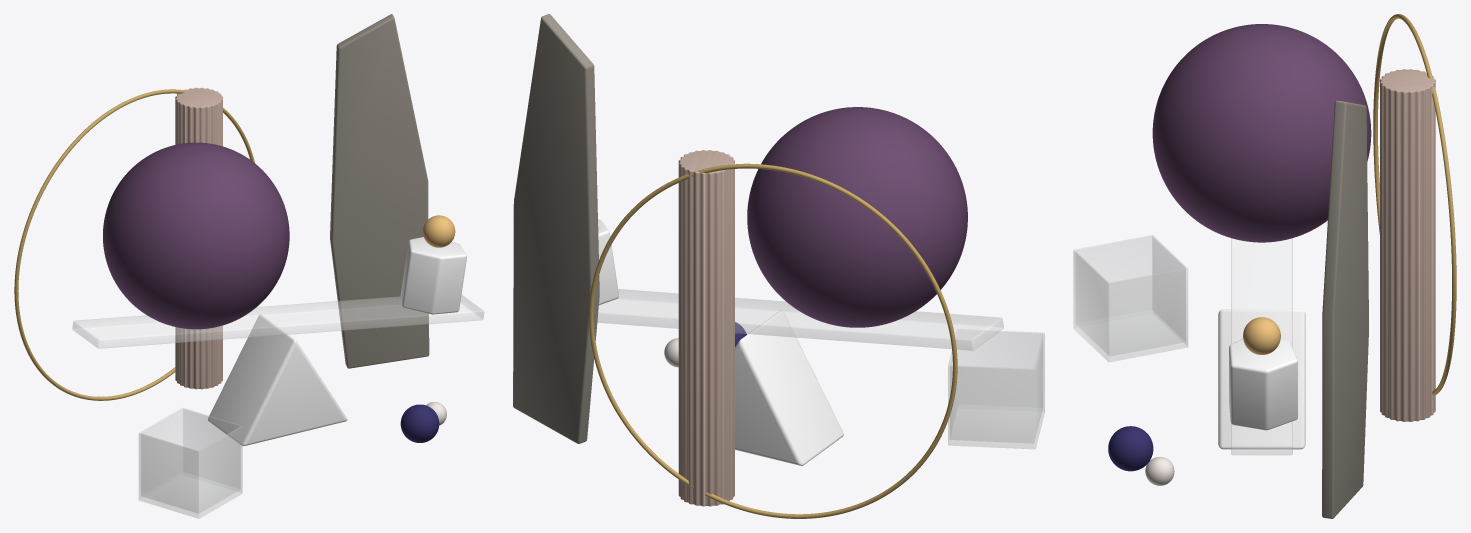
3 views of the same model, side by side, from view 1: azimuth 30°, elevation 25°; view 2: azimuth 150°, elevation 25°; view 3: azimuth 270°, elevation 25° (orthographic). The views are drawn at different scales.
Visible parts, largest first — view 1: ball, shard, wedge, plank, cube, column, jade, hoop, lav, gold; view 2: ball, shard, column, wedge, cube, plank, hoop, jade; view 3: ball, column, shard, cube, plank, wedge, jade, hoop, lav, gold, pearl.
Part boxes in pixels (bbox=[...]): ball: bbox=[103, 142, 289, 329]; shard: bbox=[330, 14, 429, 368]; wedge: bbox=[208, 314, 347, 446]; plank: bbox=[72, 295, 484, 348]; cube: bbox=[139, 408, 242, 518]; column: bbox=[175, 87, 222, 389]; jade: bbox=[400, 237, 466, 314]; hoop: bbox=[14, 89, 254, 400]; lav: bbox=[400, 404, 439, 442]; gold: bbox=[423, 215, 455, 247]; ball: bbox=[747, 107, 967, 327]; shard: bbox=[513, 14, 599, 443]; column: bbox=[678, 150, 734, 506]; wedge: bbox=[735, 310, 843, 465]; cube: bbox=[948, 329, 1044, 448]; plank: bbox=[597, 289, 1003, 350]; hoop: bbox=[589, 163, 957, 518]; jade: bbox=[598, 219, 618, 304]; ball: bbox=[1152, 24, 1371, 242]; column: bbox=[1380, 69, 1435, 421]; shard: bbox=[1322, 100, 1368, 518]; cube: bbox=[1073, 235, 1187, 361]; plank: bbox=[1231, 238, 1292, 454]; wedge: bbox=[1218, 309, 1305, 449]; jade: bbox=[1229, 338, 1297, 430]; hoop: bbox=[1373, 14, 1456, 395]; lav: bbox=[1108, 426, 1153, 471]; gold: bbox=[1243, 317, 1280, 354]; pearl: bbox=[1145, 457, 1174, 485].
Bounding box in the file's own units: 1.52 × 1.23 × 1.05.
